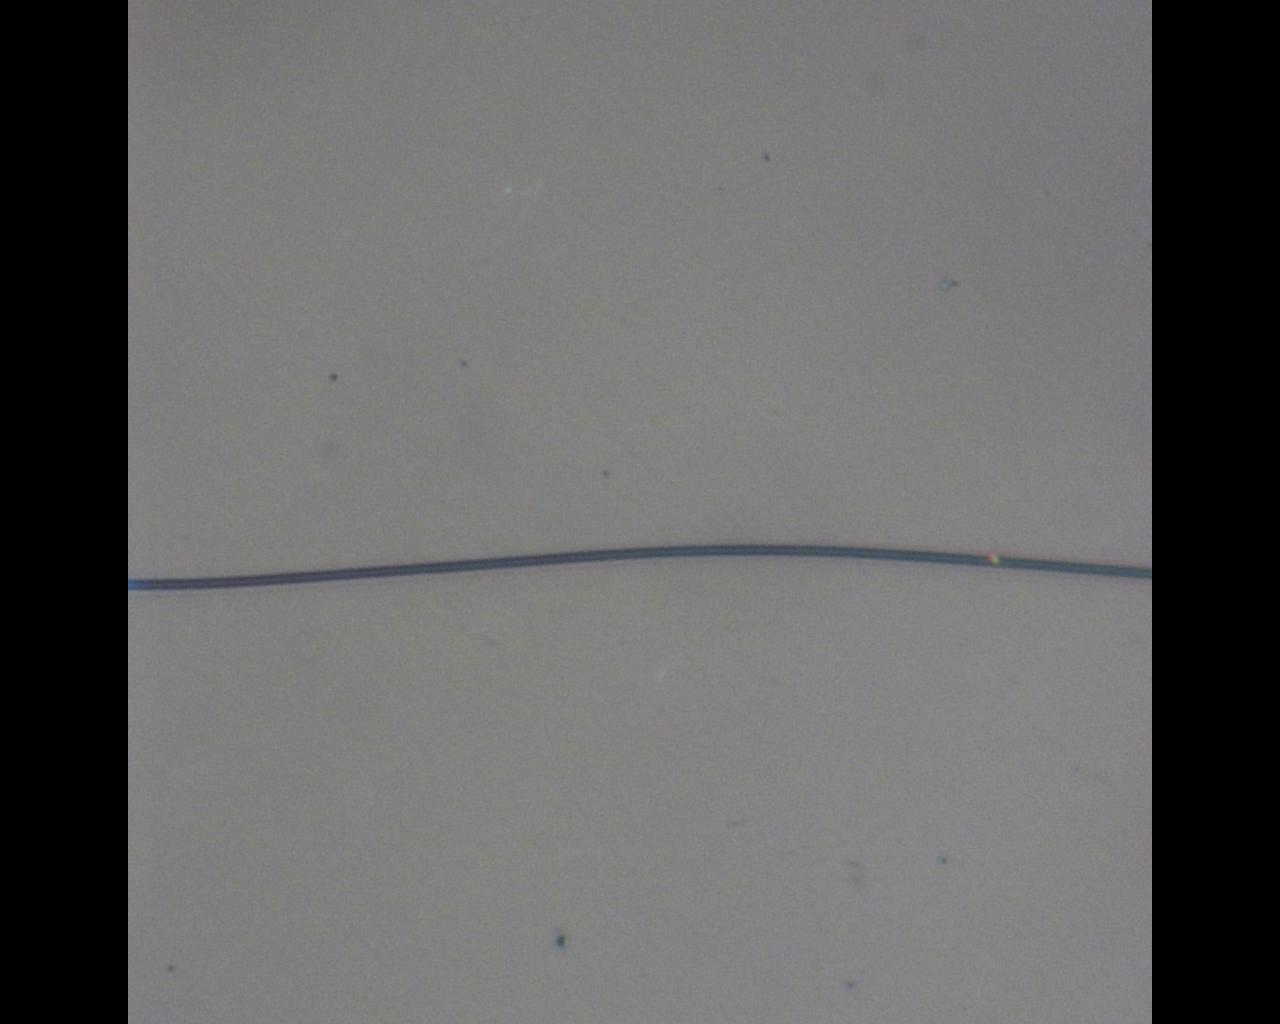fiber: (128, 543, 1152, 593)
